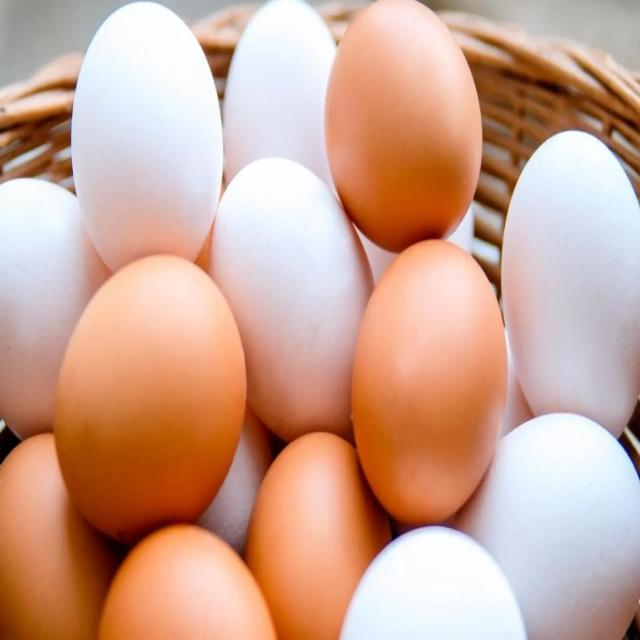huevos: (48, 242, 256, 558), (331, 224, 519, 542)
